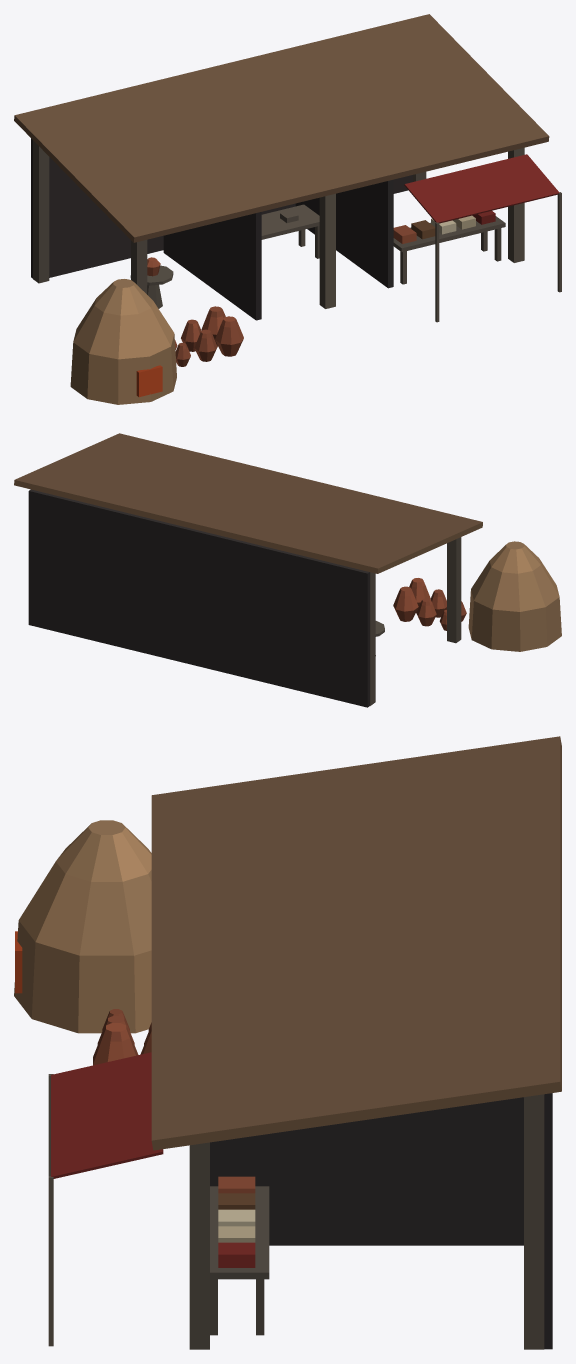
The model's file is walk_ashen_artisan.glb.
The picture shows the model from 3 angles, top to bottom: view 1: azimuth 30°, elevation 25°; view 2: azimuth 150°, elevation 25°; view 3: azimuth 270°, elevation 25°; orthographic projection. The views are drawn at different scales.
Parts seen in each view (by area): view 1: walk_ashen_artisan_roof, walk_ashen_artisan; view 2: walk_ashen_artisan, walk_ashen_artisan_roof; view 3: walk_ashen_artisan_roof, walk_ashen_artisan.
Part boxes in pixels (<box>): walk_ashen_artisan_roof: <box>14,14,549,242</box>; walk_ashen_artisan: <box>31,138,561,404</box>; walk_ashen_artisan: <box>28,489,561,707</box>; walk_ashen_artisan_roof: <box>14,433,482,573</box>; walk_ashen_artisan_roof: <box>151,736,561,1150</box>; walk_ashen_artisan: <box>14,820,552,1349</box>.
Size of what is drawn, in the model's own units: 10.25 by 3.32 by 5.9.
2 materials, 2 textured.
